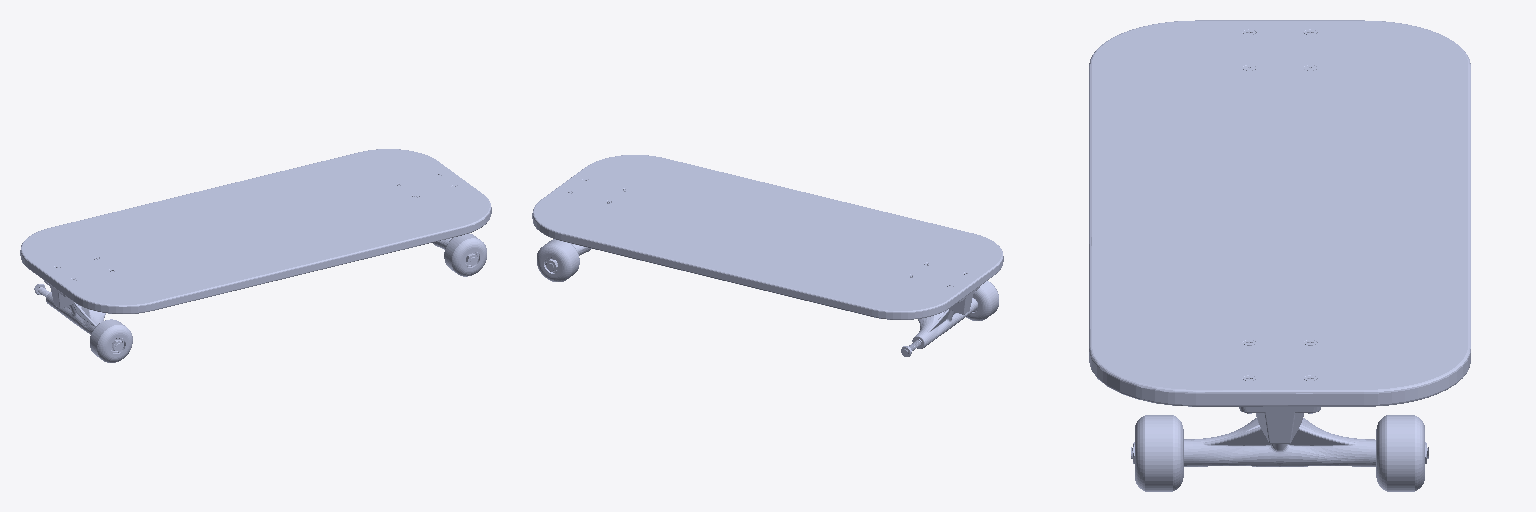
The robot description file, URDF, robot "robot":
<?xml version="1.0" encoding="utf-8"?>
<!-- This URDF was automatically created by SolidWorks to URDF Exporter! Originally created by [author] ([email redacted]) 
     Commit Version: 1.6.0-4-g7f85cfe  Build Version: 1.6.7995.38578
     For more information, please see http://wiki.ros.org/sw_urdf_exporter -->
<robot
  name="robot">
  <link
    name="base_link">
    <inertial>
      <origin
        xyz="8.51667942217011E-18 -5.7017128014755E-13 0.0802910464971479"
        rpy="0 0 0" />
      <mass
        value="1.82043849463012" />
      <inertia
        ixx="0.00838674608649416"
        ixy="-3.00997151600602E-11"
        ixz="-5.82885696691992E-18"
        iyy="0.0436475937409821"
        iyz="1.76405604747381E-18"
        izz="0.0519774548419139" />
    </inertial>
    <visual>
      <origin
        xyz="0 0 0"
        rpy="0 0 0" />
      <geometry>
        <mesh
          filename="package://robot/meshes/base_link.STL" />
      </geometry>
      <material
        name="">
        <color
          rgba="0.792156862745098 0.819607843137255 0.933333333333333 1" />
      </material>
    </visual>
    <collision>
      <origin
        xyz="0 0 0"
        rpy="0 0 0" />
      <geometry>
        <mesh
          filename="package://robot/meshes/base_link.STL" />
      </geometry>
    </collision>
  </link>
  <link
    name="tr0">
    <inertial>
      <origin
        xyz="-0.00394787639504182 1.37418500665507E-05 0.00254298269279472"
        rpy="0 0 0" />
      <mass
        value="0.0547114238405179" />
      <inertia
        ixx="7.61776025856824E-05"
        ixy="4.23831106821021E-09"
        ixz="-1.67945750554521E-07"
        iyy="6.50793003268922E-06"
        iyz="3.53100119604505E-09"
        izz="7.70651828223062E-05" />
    </inertial>
    <visual>
      <origin
        xyz="0 0 0"
        rpy="0 0 0" />
      <geometry>
        <mesh
          filename="package://robot/meshes/tr0.STL" />
      </geometry>
      <material
        name="">
        <color
          rgba="0.792156862745098 0.819607843137255 0.933333333333333 1" />
      </material>
    </visual>
    <collision>
      <origin
        xyz="0 0 0"
        rpy="0 0 0" />
      <geometry>
        <mesh
          filename="package://robot/meshes/tr0.STL" />
      </geometry>
    </collision>
  </link>
  <joint
    name="trj0"
    type="revolute">
    <origin
      xyz="0.248451238407881 0 0.0249999999999996"
      rpy="0 0.380444263902653 0" />
    <parent
      link="base_link" />
    <child
      link="tr0" />
    <axis
      xyz="0 0 -1" />
    <limit
      lower="-0.2278"
      upper="0.2278"
      effort="0"
      velocity="0" />
  </joint>
  <link
    name="wh0">
    <inertial>
      <origin
        xyz="0 -3.7470027081099E-16 -1.73472347597681E-17"
        rpy="0 0 0" />
      <mass
        value="0.0490782123073816" />
      <inertia
        ixx="1.14097578389298E-05"
        ixy="-2.95578023787108E-23"
        ixz="5.50508017383537E-24"
        iyy="1.63120870051882E-05"
        iyz="5.0400806867828E-22"
        izz="1.14097578389298E-05" />
    </inertial>
    <visual>
      <origin
        xyz="0 0 0"
        rpy="0 0 0" />
      <geometry>
        <mesh
          filename="package://robot/meshes/wh0.STL" />
      </geometry>
      <material
        name="">
        <color
          rgba="0.792156862745098 0.819607843137255 0.933333333333333 1" />
      </material>
    </visual>
    <collision>
      <origin
        xyz="0 0 0"
        rpy="0 0 0" />
      <geometry>
        <mesh
          filename="package://robot/meshes/wh0.STL" />
      </geometry>
    </collision>
  </link>
  <joint
    name="whj0"
    type="continuous">
    <origin
      xyz="0 -0.0790000000000001 0"
      rpy="-3.14159265358979 -0.380444263902653 0" />
    <parent
      link="tr0" />
    <child
      link="wh0" />
    <axis
      xyz="0 -1 0" />
  </joint>
  <link
    name="wh1">
    <inertial>
      <origin
        xyz="0 -4.16333634234434E-16 6.93889390390723E-18"
        rpy="0 0 0" />
      <mass
        value="0.0490782123073816" />
      <inertia
        ixx="1.14097578389298E-05"
        ixy="-2.95578023787108E-23"
        ixz="5.51817720020061E-24"
        iyy="1.63120870051882E-05"
        iyz="5.05450120212838E-22"
        izz="1.14097578389298E-05" />
    </inertial>
    <visual>
      <origin
        xyz="0 0 0"
        rpy="0 0 0" />
      <geometry>
        <mesh
          filename="package://robot/meshes/wh1.STL" />
      </geometry>
      <material
        name="">
        <color
          rgba="0.792156862745098 0.819607843137255 0.933333333333333 1" />
      </material>
    </visual>
    <collision>
      <origin
        xyz="0 0 0"
        rpy="0 0 0" />
      <geometry>
        <mesh
          filename="package://robot/meshes/wh1.STL" />
      </geometry>
    </collision>
  </link>
  <joint
    name="whj1"
    type="continuous">
    <origin
      xyz="0 0.079 0"
      rpy="-3.14159265358979 -0.380444263902653 0" />
    <parent
      link="tr0" />
    <child
      link="wh1" />
    <axis
      xyz="0 -1 0" />
  </joint>
  <link
    name="tr1">
    <inertial>
      <origin
        xyz="-0.0039478771195347 1.37395100394427E-05 0.00254298982375513"
        rpy="0 0 0" />
      <mass
        value="0.0547114133476162" />
      <inertia
        ixx="7.61776030250516E-05"
        ixy="4.23553409378601E-09"
        ixz="-1.67942745117598E-07"
        iyy="6.50794157169863E-06"
        iyz="3.52861875880821E-09"
        izz="7.70651978379734E-05" />
    </inertial>
    <visual>
      <origin
        xyz="0 0 0"
        rpy="0 0 0" />
      <geometry>
        <mesh
          filename="package://robot/meshes/tr1.STL" />
      </geometry>
      <material
        name="">
        <color
          rgba="0.792156862745098 0.819607843137255 0.933333333333333 1" />
      </material>
    </visual>
    <collision>
      <origin
        xyz="0 0 0"
        rpy="0 0 0" />
      <geometry>
        <mesh
          filename="package://robot/meshes/tr1.STL" />
      </geometry>
    </collision>
  </link>
  <joint
    name="trj1"
    type="revolute">
    <origin
      xyz="-0.248451238407882 0 0.025"
      rpy="0 0.380444263902653 3.14159265358979" />
    <parent
      link="base_link" />
    <child
      link="tr1" />
    <axis
      xyz="0 0 -1" />
    <limit
      lower="-0.2278"
      upper="0.2278"
      effort="0"
      velocity="0" />
  </joint>
  <link
    name="wh2">
    <inertial>
      <origin
        xyz="2.08166817117217E-15 0.0159999999999977 7.97972798949331E-17"
        rpy="0 0 0" />
      <mass
        value="0.0490782123073816" />
      <inertia
        ixx="1.14097578389298E-05"
        ixy="-8.53357381405663E-23"
        ixz="-8.02945735218156E-23"
        iyy="1.63120870051882E-05"
        iyz="5.04700071664633E-22"
        izz="1.14097578389298E-05" />
    </inertial>
    <visual>
      <origin
        xyz="0 0 0"
        rpy="0 0 0" />
      <geometry>
        <mesh
          filename="package://robot/meshes/wh2.STL" />
      </geometry>
      <material
        name="">
        <color
          rgba="0.792156862745098 0.819607843137255 0.933333333333333 1" />
      </material>
    </visual>
    <collision>
      <origin
        xyz="0 0 0"
        rpy="0 0 0" />
      <geometry>
        <mesh
          filename="package://robot/meshes/wh2.STL" />
      </geometry>
    </collision>
  </link>
  <joint
    name="whj2"
    type="continuous">
    <origin
      xyz="0 0.0630000000000009 0"
      rpy="3.14159265358979 0.380444263902653 3.14159265358979" />
    <parent
      link="tr1" />
    <child
      link="wh2" />
    <axis
      xyz="0 -1 0" />
  </joint>
  <link
    name="wh3">
    <inertial>
      <origin
        xyz="2.4980018054066E-15 -0.0160000000000055 4.1286418728248E-16"
        rpy="0 0 0" />
      <mass
        value="0.0490782123073816" />
      <inertia
        ixx="1.14097578389298E-05"
        ixy="4.15744681797579E-22"
        ixz="-1.28506924098295E-23"
        iyy="1.63120870051882E-05"
        iyz="-1.51826352916934E-20"
        izz="1.14097578389298E-05" />
    </inertial>
    <visual>
      <origin
        xyz="0 0 0"
        rpy="0 0 0" />
      <geometry>
        <mesh
          filename="package://robot/meshes/wh3.STL" />
      </geometry>
      <material
        name="">
        <color
          rgba="0.792156862745098 0.819607843137255 0.933333333333333 1" />
      </material>
    </visual>
    <collision>
      <origin
        xyz="0 0 0"
        rpy="0 0 0" />
      <geometry>
        <mesh
          filename="package://robot/meshes/wh3.STL" />
      </geometry>
    </collision>
  </link>
  <joint
    name="whj3"
    type="continuous">
    <origin
      xyz="0 -0.0629999999999984 0"
      rpy="3.14159265358979 0.380444263902653 3.14159265358979" />
    <parent
      link="tr1" />
    <child
      link="wh3" />
    <axis
      xyz="0 -1 0" />
  </joint>
</robot>

--- What the picture shows (computed from the rendered views, not written in the file) ---
Views: 3 orthographic renders of the robot side by side, from view 1: azimuth 30°, elevation 25°; view 2: azimuth 150°, elevation 25°; view 3: azimuth 270°, elevation 25°.
Robot: robot — 7 links, 6 joints (2 revolute, 4 continuous); root link base_link; default pose: every joint at zero.
Links seen in each view (by area): view 1: base_link, wh2, wh0, tr1; view 2: base_link, wh1, tr1, wh2; view 3: base_link, tr0, wh0, wh1.
Link boxes in pixels (left/top/right/bottom): base_link: left=20, top=149, right=491, bottom=313; wh2: left=90, top=319, right=132, bottom=362; wh0: left=444, top=233, right=486, bottom=276; tr1: left=34, top=284, right=122, bottom=350; base_link: left=532, top=155, right=1003, bottom=319; wh1: left=537, top=239, right=579, bottom=281; tr1: left=901, top=298, right=977, bottom=356; wh2: left=966, top=281, right=998, bottom=320; base_link: left=1089, top=20, right=1470, bottom=443; tr0: left=1131, top=418, right=1428, bottom=466; wh0: left=1135, top=415, right=1183, bottom=491; wh1: left=1376, top=415, right=1424, bottom=491.
Bounding box of the posed robot: 0.575 × 0.25 × 0.088 m (x, y, z).
Meshes: 7 distinct files referenced, 6 mesh visuals loaded (6 binary STL); not drawn: 1 (reference not matched to a file when rendering).